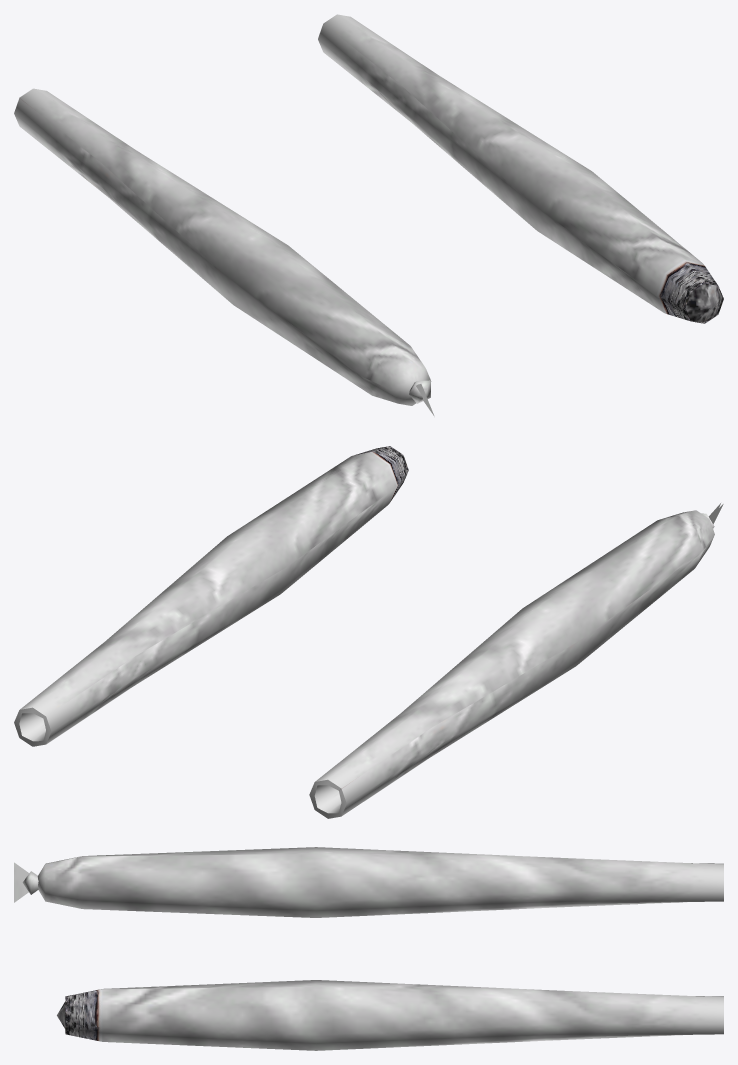
Rendered from Joints.fbx.
3 views of the same model, one above another, from view 1: azimuth 30°, elevation 25°; view 2: azimuth 150°, elevation 25°; view 3: azimuth 270°, elevation 25° (orthographic). The views are drawn at different scales.
Parts seen in each view (by area): view 1: Joint, Joint Lit; view 2: Joint, Joint Lit; view 3: Joint, Joint Lit.
Boxes of the visible parts, box(x1,y1,x2,y2) form: Joint: box(14, 88, 434, 416); Joint Lit: box(318, 14, 723, 323); Joint: box(309, 503, 723, 818); Joint Lit: box(14, 446, 408, 746); Joint: box(14, 847, 723, 917); Joint Lit: box(57, 980, 723, 1050).
Size of the model in its own units: 16.7 by 2.99 by 30.99.
1 material, 1 textured.
